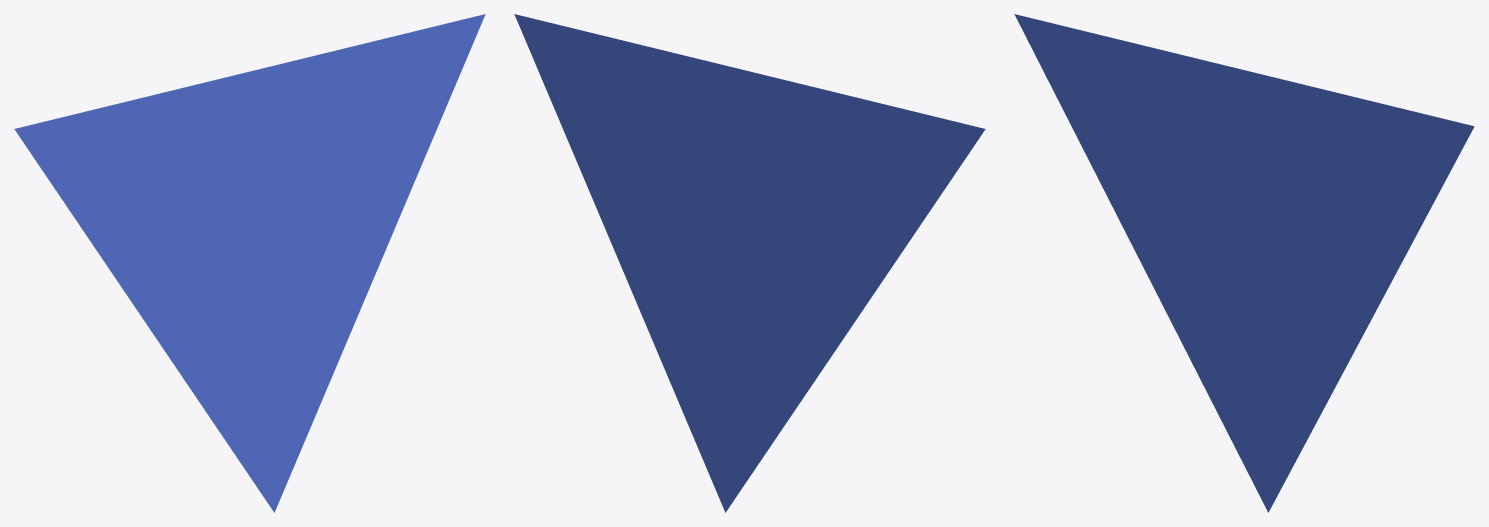
Rendered from Dest_PowerPlant_Belt_Arrow.FBX.
3 renders of one model, left to right at view 1: azimuth 30°, elevation 25°; view 2: azimuth 150°, elevation 25°; view 3: azimuth 330°, elevation 25°, orthographic. The views are drawn at different scales.
Parts seen in each view (by area): view 1: Plane001; view 2: Plane001; view 3: Plane001.
Part boxes in pixels (bbox=[...]): Plane001: bbox=[14, 14, 485, 512]; Plane001: bbox=[514, 14, 985, 512]; Plane001: bbox=[1014, 14, 1474, 512].
Bounding box in the file's own units: 9.42 × 8.55 × 1.39e-06.
